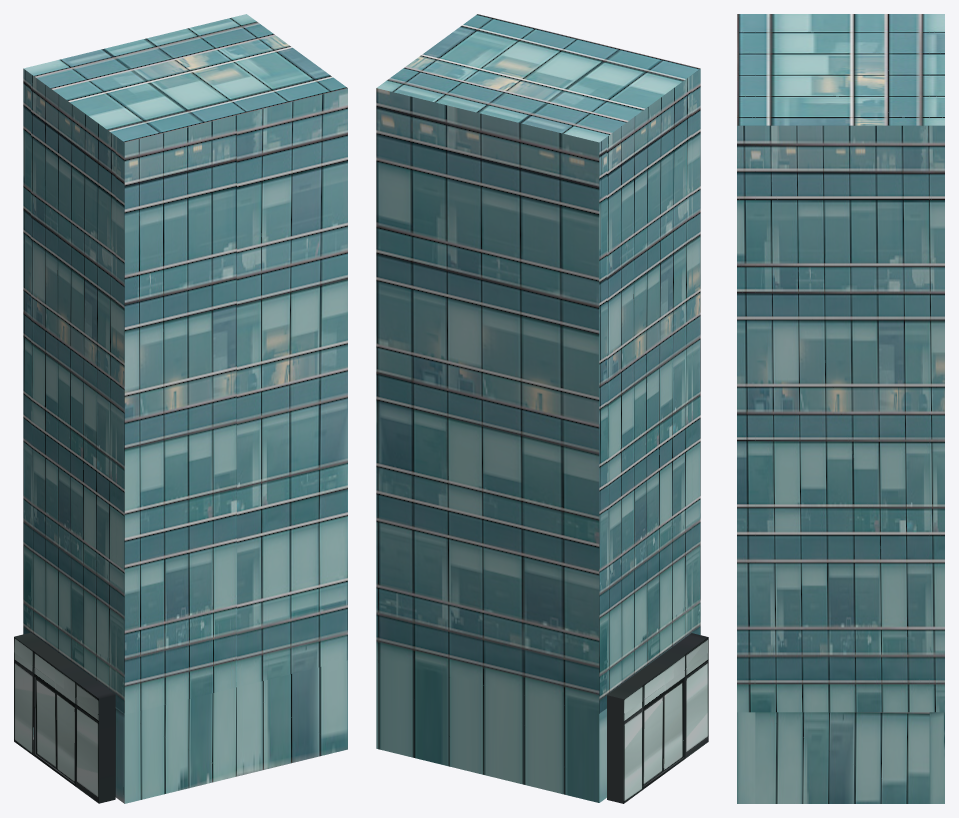
File: business gebouw goeie.fbx
3 renders of one model, left to right at view 1: azimuth 30°, elevation 25°; view 2: azimuth 150°, elevation 25°; view 3: azimuth 270°, elevation 25°, orthographic. The views are drawn at different scales.
Parts seen in each view (by area): view 1: Gebouw, Deurgedeelte, Deurgedeelte.003, Deurgedeelte.002, Deurgedeelte.001; view 2: Gebouw, Deurgedeelte, Deurgedeelte.002, Deurgedeelte.003, Deurgedeelte.001; view 3: Gebouw.
Part boxes in pixels (x1,y1,x2,y2): Gebouw: (23,14,347,803); Deurgedeelte: (14,632,115,803); Deurgedeelte.003: (35,678,56,768); Deurgedeelte.002: (56,692,74,782); Deurgedeelte.001: (33,674,75,786); Gebouw: (376,14,700,802); Deurgedeelte: (607,633,708,803); Deurgedeelte.002: (663,681,683,771); Deurgedeelte.003: (643,695,663,785); Deurgedeelte.001: (643,677,685,788); Gebouw: (737,14,944,803).
Bounding box in the file's own units: 30398 × 80278 × 22221.
3 materials, 3 textured.
